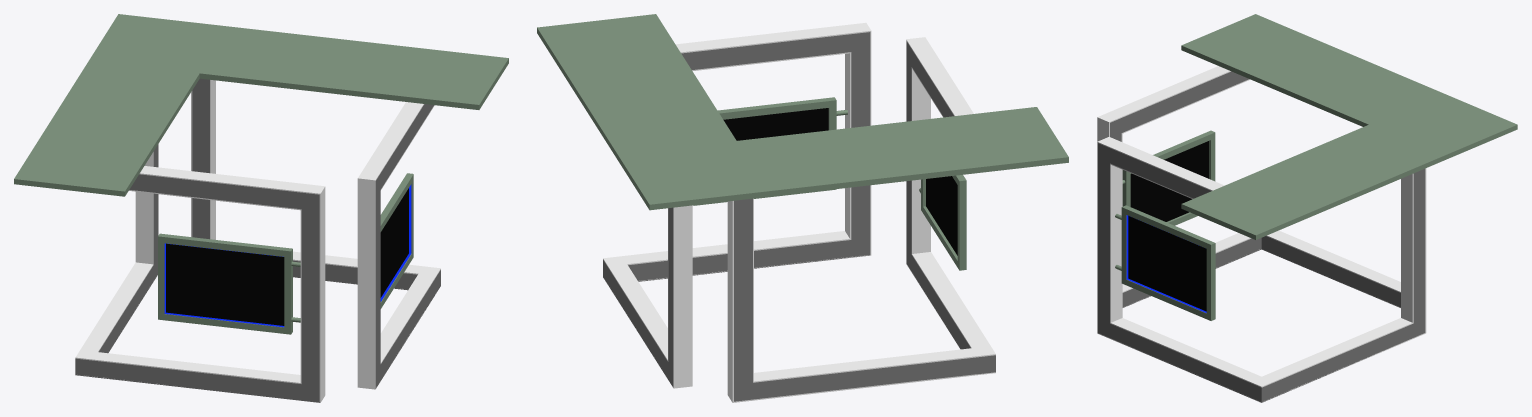
The model's file is VirtualTvNewsDesk_3_fbx.FBX.
3 renders of one model, left to right at view 1: azimuth 30°, elevation 25°; view 2: azimuth 150°, elevation 25°; view 3: azimuth 270°, elevation 25°, orthographic. The views are drawn at different scales.
Parts seen in each view (by area): view 1: News Desk_3_1, News Desk_3_7, News Desk_3_5, News Desk_3_2, News Desk_3_4, News Desk_3_3; view 2: News Desk_3_1, News Desk_3_7, News Desk_3_5, News Desk_3_2, News Desk_3_4; view 3: News Desk_3_1, News Desk_3_7, News Desk_3_5, News Desk_3_2, News Desk_3_4, News Desk_3_3.
Part boxes in pixels (x1=…): News Desk_3_1: x1=14, y1=14, x2=508, y2=196; News Desk_3_7: x1=75, y1=78, x2=440, y2=402; News Desk_3_5: x1=75, y1=80, x2=440, y2=402; News Desk_3_2: x1=166, y1=188, x2=408, y2=325; News Desk_3_4: x1=158, y1=173, x2=413, y2=334; News Desk_3_3: x1=164, y1=184, x2=411, y2=327; News Desk_3_1: x1=537, y1=14, x2=1068, y2=210; News Desk_3_7: x1=603, y1=32, x2=995, y2=401; News Desk_3_5: x1=603, y1=22, x2=995, y2=402; News Desk_3_2: x1=723, y1=108, x2=957, y2=255; News Desk_3_4: x1=693, y1=97, x2=966, y2=270; News Desk_3_1: x1=1181, y1=14, x2=1517, y2=239; News Desk_3_7: x1=1098, y1=71, x2=1425, y2=402; News Desk_3_5: x1=1097, y1=66, x2=1426, y2=402; News Desk_3_2: x1=1128, y1=141, x2=1208, y2=311; News Desk_3_4: x1=1115, y1=130, x2=1215, y2=320; News Desk_3_3: x1=1126, y1=215, x2=1206, y2=312.
Size of what is drawn, in the model's own units: 97.99 by 40.55 by 78.65.
